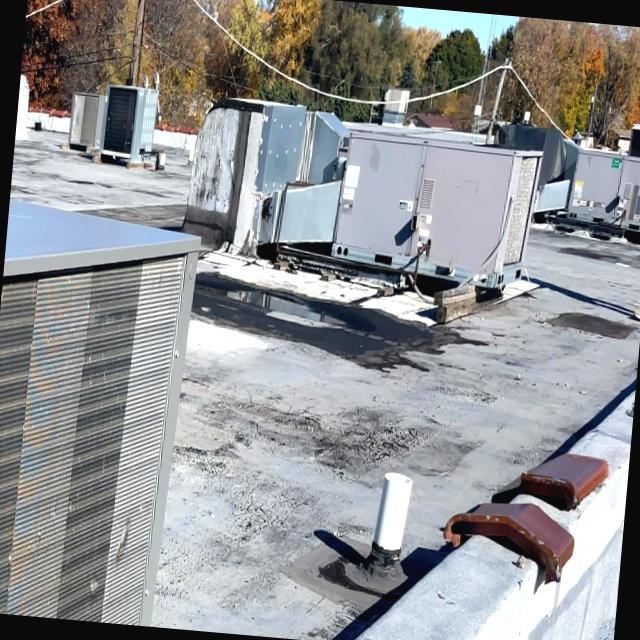RTU: (328, 123, 548, 303), (563, 140, 640, 268)
SPLIT-SYSTEM: (0, 180, 201, 627)
